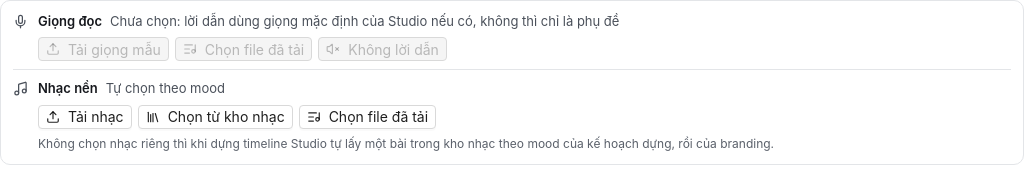
Scenario: voice and music card › an editor uses the music buttons; the voice buttons stay disabled and say a producer is needed
The width and height of the screenshot is (1024, 182).
Expected: the element "Giọng đọc" shows "Chưa chọn", [110,13,619,29]
Expected: the button "Chọn file đã tải" below "Giọng đọc" is disabled, [175,37,312,61]
Hover over the element showing "Tải giọng mẫu" at (103, 49), box [38,37,169,61]
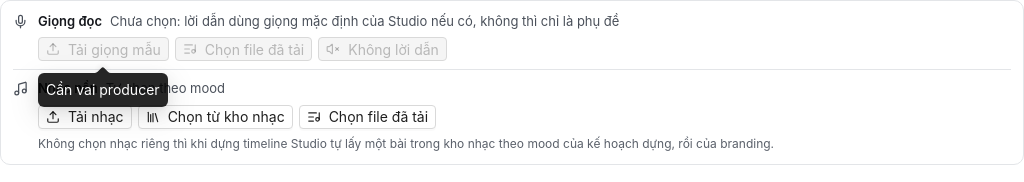
Expected: the element "Nhạc nền" shows "Tự chọn theo mood", [106,80,225,96]
Expected: the tooltip "Cần vai producer" is shown, [38,73,168,107]
